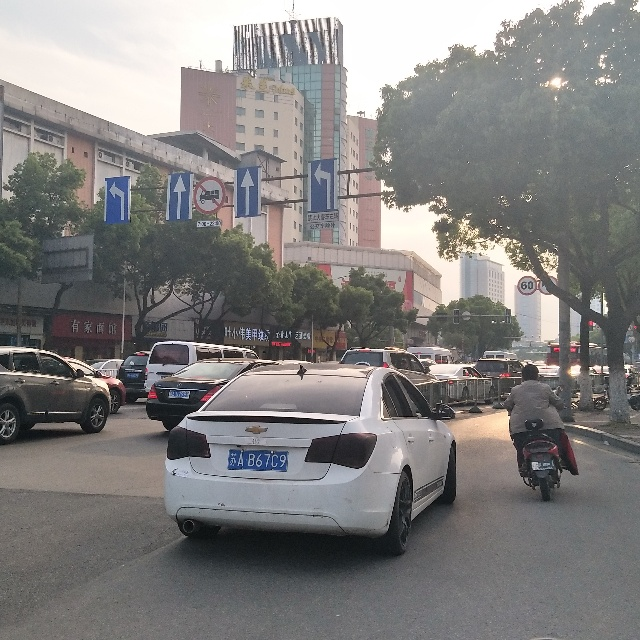left: (310, 161, 337, 214), (106, 179, 131, 222)
straight: (235, 167, 260, 216), (167, 174, 190, 220)
